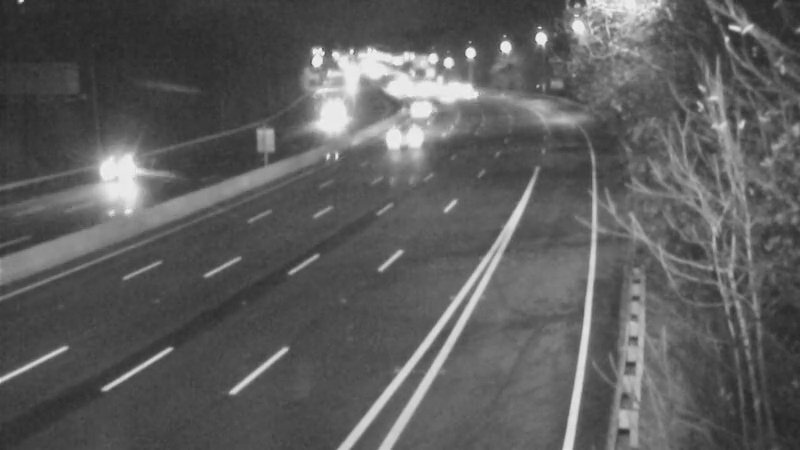vehicle: (80, 134, 160, 214), (389, 82, 439, 132), (381, 116, 431, 166), (311, 89, 361, 139)
